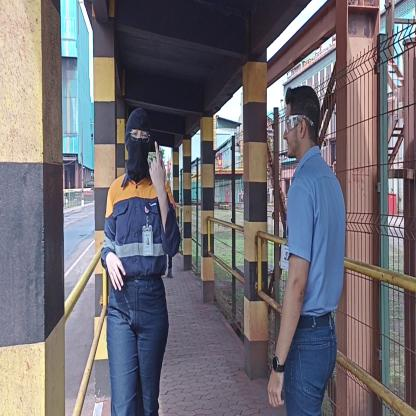Balaclava: (125, 106, 153, 183)
Operacional: (104, 179, 180, 276)
